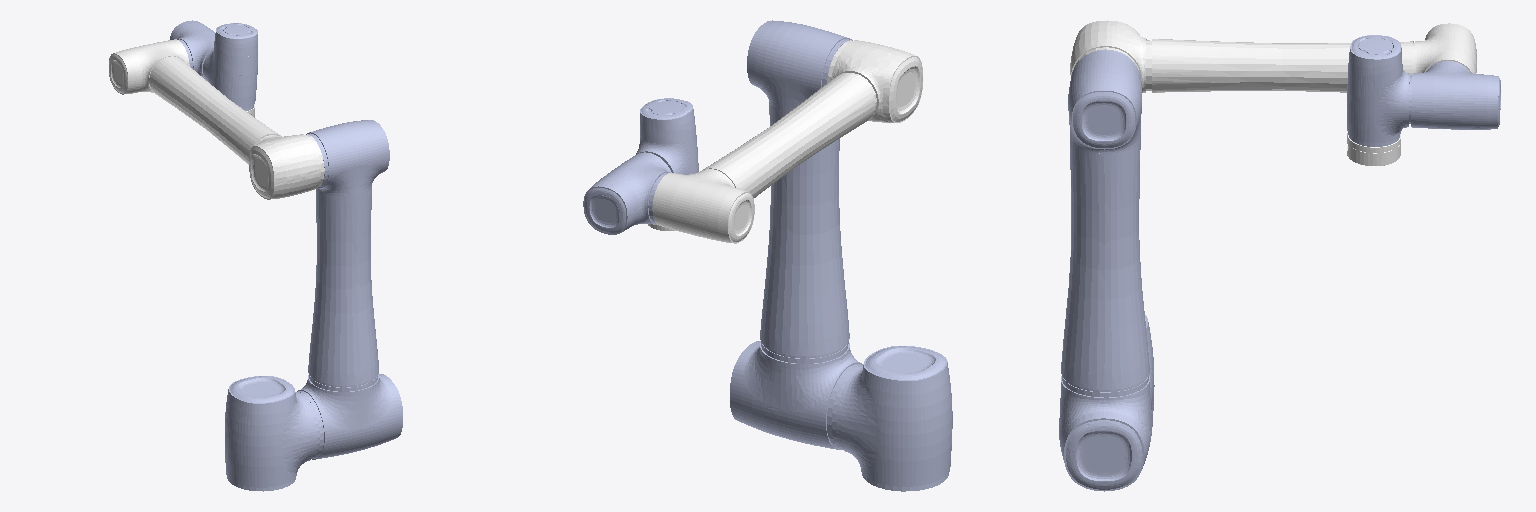
URDF robot description (CR10A_2):
<?xml version="1.0" encoding="utf-8"?>
<!-- This URDF was automatically created by SolidWorks to URDF Exporter! Originally created by Stephen Brawner (brawner@gmail.com) 
     Commit Version: 1.6.0-4-g7f85cfe  Build Version: 1.6.7995.38578
     For more information, please see http://wiki.ros.org/sw_urdf_exporter -->
<robot
  name="CR10A_2">
  <link
    name="base_link">
    <inertial>
      <origin
        xyz="-0.290785793012938 0.0336373240312891 0.794129560061461"
        rpy="0 0 0" />
      <mass
        value="1.72869537787631" />
      <inertia
        ixx="0.00404941415696362"
        ixy="6.55393997444572E-07"
        ixz="2.51836388244275E-05"
        iyy="0.00418206079476817"
        iyz="-5.61841736104462E-07"
        izz="0.00651775316369979" />
    </inertial>
    <visual>
      <origin
        xyz="0 0 0"
        rpy="0 0 0" />
      <geometry>
        <mesh
          filename="package://CR10A_2/meshes/base_link.STL" />
      </geometry>
      <material
        name="">
        <color
          rgba="0.792156862745098 0.819607843137255 0.933333333333333 1" />
      </material>
    </visual>
    <collision>
      <origin
        xyz="0 0 0"
        rpy="0 0 0" />
      <geometry>
        <mesh
          filename="package://CR10A_2/meshes/base_link.STL" />
      </geometry>
    </collision>
  </link>
  <link
    name="1_link">
    <inertial>
      <origin
        xyz="0.0101030523614197 1.01453190531897E-06 0.0984642609975221"
        rpy="0 0 0" />
      <mass
        value="4.10332083338183" />
      <inertia
        ixx="0.0183679987441499"
        ixy="-1.73293051130684E-07"
        ixz="0.000112646897841512"
        iyy="0.0200486432101845"
        iyz="7.22330705237499E-08"
        izz="0.0140877685174107" />
    </inertial>
    <visual>
      <origin
        xyz="0 0 0"
        rpy="0 0 0" />
      <geometry>
        <mesh
          filename="package://CR10A_2/meshes/1_link.STL" />
      </geometry>
      <material
        name="">
        <color
          rgba="0.792156862745098 0.819607843137255 0.933333333333333 1" />
      </material>
    </visual>
    <collision>
      <origin
        xyz="0 0 0"
        rpy="0 0 0" />
      <geometry>
        <mesh
          filename="package://CR10A_2/meshes/1_link.STL" />
      </geometry>
    </collision>
  </link>
  <joint
    name="1_joint"
    type="revolute">
    <origin
      xyz="-0.29 0.033641 0.837"
      rpy="0 0 -0.021802" />
    <parent
      link="base_link" />
    <child
      link="1_link" />
    <axis
      xyz="0 0 -1" />
    <limit
      lower="-3.14"
      upper="3.14"
      effort="0"
      velocity="0" />
  </joint>
  <link
    name="2_link">
    <inertial>
      <origin
        xyz="0.244121089707563 4.09251443470038E-07 0.0965697345968748"
        rpy="0 0 0" />
      <mass
        value="11.2445859877789" />
      <inertia
        ixx="0.0339643708941649"
        ixy="-1.65930622957405E-07"
        ixz="9.40259741768579E-05"
        iyy="0.118636916797871"
        iyz="1.1830218217475E-07"
        izz="0.11106738033107" />
    </inertial>
    <visual>
      <origin
        xyz="0 0 0"
        rpy="0 0 0" />
      <geometry>
        <mesh
          filename="package://CR10A_2/meshes/2_link.STL" />
      </geometry>
      <material
        name="">
        <color
          rgba="0.792156862745098 0.819607843137255 0.933333333333333 1" />
      </material>
    </visual>
    <collision>
      <origin
        xyz="0 0 0"
        rpy="0 0 0" />
      <geometry>
        <mesh
          filename="package://CR10A_2/meshes/2_link.STL" />
      </geometry>
    </collision>
  </link>
  <joint
    name="2_joint"
    type="revolute">
    <origin
      xyz="0.099097 0 0.095"
      rpy="-1.5708 -1.57 -1.5708" />
    <parent
      link="1_link" />
    <child
      link="2_link" />
    <axis
      xyz="0 0 -1" />
    <limit
      lower="-3.14"
      upper="3.14"
      effort="0"
      velocity="0" />
  </joint>
  <link
    name="3_link">
    <inertial>
      <origin
        xyz="0.270557491027765 0.000353159553549531 0.0376939094961107"
        rpy="0 0 0" />
      <mass
        value="5.03712891265186" />
      <inertia
        ixx="0.007761091795223"
        ixy="-0.00016116596936149"
        ixz="0.00240186228826323"
        iyy="0.123921489408742"
        iyz="1.93151865644578E-05"
        izz="0.122208539368207" />
    </inertial>
    <visual>
      <origin
        xyz="0 0 0"
        rpy="0 0 0" />
      <geometry>
        <mesh
          filename="package://CR10A_2/meshes/3_link.STL" />
      </geometry>
      <material
        name="">
        <color
          rgba="1 1 1 1" />
      </material>
    </visual>
    <collision>
      <origin
        xyz="0 0 0"
        rpy="0 0 0" />
      <geometry>
        <mesh
          filename="package://CR10A_2/meshes/3_link.STL" />
      </geometry>
    </collision>
  </link>
  <joint
    name="3_joint"
    type="revolute">
    <origin
      xyz="0.602 0 0"
      rpy="3.1416 0.021802 -1.5716" />
    <parent
      link="2_link" />
    <child
      link="3_link" />
    <axis
      xyz="0.0218 0 0.99976" />
    <limit
      lower="-1.39"
      upper="1.39"
      effort="0"
      velocity="0" />
  </joint>
  <link
    name="4_link">
    <inertial>
      <origin
        xyz="-0.00750070124706592 0.000855574672094628 0.0604134955253673"
        rpy="0 0 0" />
      <mass
        value="1.15016551283085" />
      <inertia
        ixx="0.00145543559451451"
        ixy="2.47003643733196E-05"
        ixz="8.25165307886607E-05"
        iyy="0.00282324817707806"
        iyz="-3.61455672829152E-06"
        izz="0.0026414908780408" />
    </inertial>
    <visual>
      <origin
        xyz="0 0 0"
        rpy="0 0 0" />
      <geometry>
        <mesh
          filename="package://CR10A_2/meshes/4_link.STL" />
      </geometry>
      <material
        name="">
        <color
          rgba="0.792156862745098 0.819607843137255 0.933333333333333 1" />
      </material>
    </visual>
    <collision>
      <origin
        xyz="0 0 0"
        rpy="0 0 0" />
      <geometry>
        <mesh
          filename="package://CR10A_2/meshes/4_link.STL" />
      </geometry>
    </collision>
  </link>
  <joint
    name="4_joint"
    type="revolute">
    <origin
      xyz="0.56749 0.0014746 -0.029378"
      rpy="3.1416 0 3.1416" />
    <parent
      link="3_link" />
    <child
      link="4_link" />
    <axis
      xyz="0.021775 0.011631 0.9997" />
    <limit
      lower="-3.14"
      upper="3.14"
      effort="0"
      velocity="0" />
  </joint>
  <link
    name="5_link">
    <inertial>
      <origin
        xyz="-0.00656638821096855 -0.00217973818518218 -0.00729917920319567"
        rpy="0 0 0" />
      <mass
        value="2.37557594377465" />
      <inertia
        ixx="0.00426904473012085"
        ixy="0.000120199364203296"
        ixz="5.019661353195E-05"
        iyy="0.00613939735721636"
        iyz="8.3038170715719E-05"
        izz="0.0048698793855615" />
    </inertial>
    <visual>
      <origin
        xyz="0 0 0"
        rpy="0 0 0" />
      <geometry>
        <mesh
          filename="package://CR10A_2/meshes/5_link.STL" />
      </geometry>
      <material
        name="">
        <color
          rgba="0.792156862745098 0.819607843137255 0.933333333333333 1" />
      </material>
    </visual>
    <collision>
      <origin
        xyz="0 0 0"
        rpy="0 0 0" />
      <geometry>
        <mesh
          filename="package://CR10A_2/meshes/5_link.STL" />
      </geometry>
    </collision>
  </link>
  <joint
    name="5_joint"
    type="revolute">
    <origin
      xyz="0.064413 -0.00034116 0.064518"
      rpy="1.5708 0 1.5708" />
    <parent
      link="4_link" />
    <child
      link="5_link" />
    <axis
      xyz="-0.017581 -0.021569 0.99961" />
    <limit
      lower="-3.14"
      upper="3.14"
      effort="0"
      velocity="0" />
  </joint>
  <link
    name="6_Link">
    <inertial>
      <origin
        xyz="0.0004715941287739 0.00124058701395285 -0.0204873640947927"
        rpy="0 0 0" />
      <mass
        value="0.204969540341213" />
      <inertia
        ixx="0.000110677799570045"
        ixy="7.51651338393634E-08"
        ixz="-1.49640782096827E-06"
        iyy="0.000110457208958578"
        iyz="-5.75389955737758E-06"
        izz="0.000204802508776206" />
    </inertial>
    <visual>
      <origin
        xyz="0 0 0"
        rpy="0 0 0" />
      <geometry>
        <mesh
          filename="package://CR10A_2/meshes/6_Link.STL" />
      </geometry>
      <material
        name="">
        <color
          rgba="1 1 1 1" />
      </material>
    </visual>
    <collision>
      <origin
        xyz="0 0 0"
        rpy="0 0 0" />
      <geometry>
        <mesh
          filename="package://CR10A_2/meshes/6_Link.STL" />
      </geometry>
    </collision>
  </link>
  <joint
    name="6_joint"
    type="continuous">
    <origin
      xyz="0.10718 -0.0078039 0.058739"
      rpy="0 1.5708 0" />
    <parent
      link="5_link" />
    <child
      link="6_Link" />
    <axis
      xyz="-0.016243 -0.060629 0.99803" />
    <limit
      lower="-3.14"
      upper="3.14"
      effort="0"
      velocity="0" />
  </joint>
</robot>

--- Facts derived from the render (not from the file) ---
The picture shows the robot from 3 angles, left to right: view 1: azimuth 30°, elevation 25°; view 2: azimuth 150°, elevation 25°; view 3: azimuth 270°, elevation 25°; orthographic projection.
Robot: CR10A_2 — 7 links, 6 joints (5 revolute, 1 continuous); root link base_link; default pose: every joint at zero.
Links seen in each view (by area): view 1: 2_link, 3_link, 1_link, 5_link, 4_link; view 2: 2_link, 3_link, 1_link, 5_link, 4_link; view 3: 2_link, 3_link, 5_link, 6_Link.
Boxes of the visible links, bbox=[...] form: 2_link: bbox=[297, 120, 402, 459]; 3_link: bbox=[109, 39, 324, 199]; 1_link: bbox=[225, 376, 319, 491]; 5_link: bbox=[176, 20, 257, 110]; 4_link: bbox=[170, 26, 213, 80]; 2_link: bbox=[730, 20, 862, 449]; 3_link: bbox=[652, 40, 922, 243]; 1_link: bbox=[832, 346, 952, 491]; 5_link: bbox=[583, 98, 698, 234]; 4_link: bbox=[583, 155, 671, 233]; 2_link: bbox=[1059, 49, 1151, 491]; 3_link: bbox=[1070, 20, 1476, 92]; 5_link: bbox=[1347, 35, 1500, 146]; 6_Link: bbox=[1347, 133, 1400, 165].
Bounding box of the posed robot: 0.3812 × 0.7343 × 0.7994 m (x, y, z).
Meshes: 7 distinct files referenced, 6 mesh visuals loaded (6 binary STL); not drawn: 1 (reference not matched to a file when rendering).
